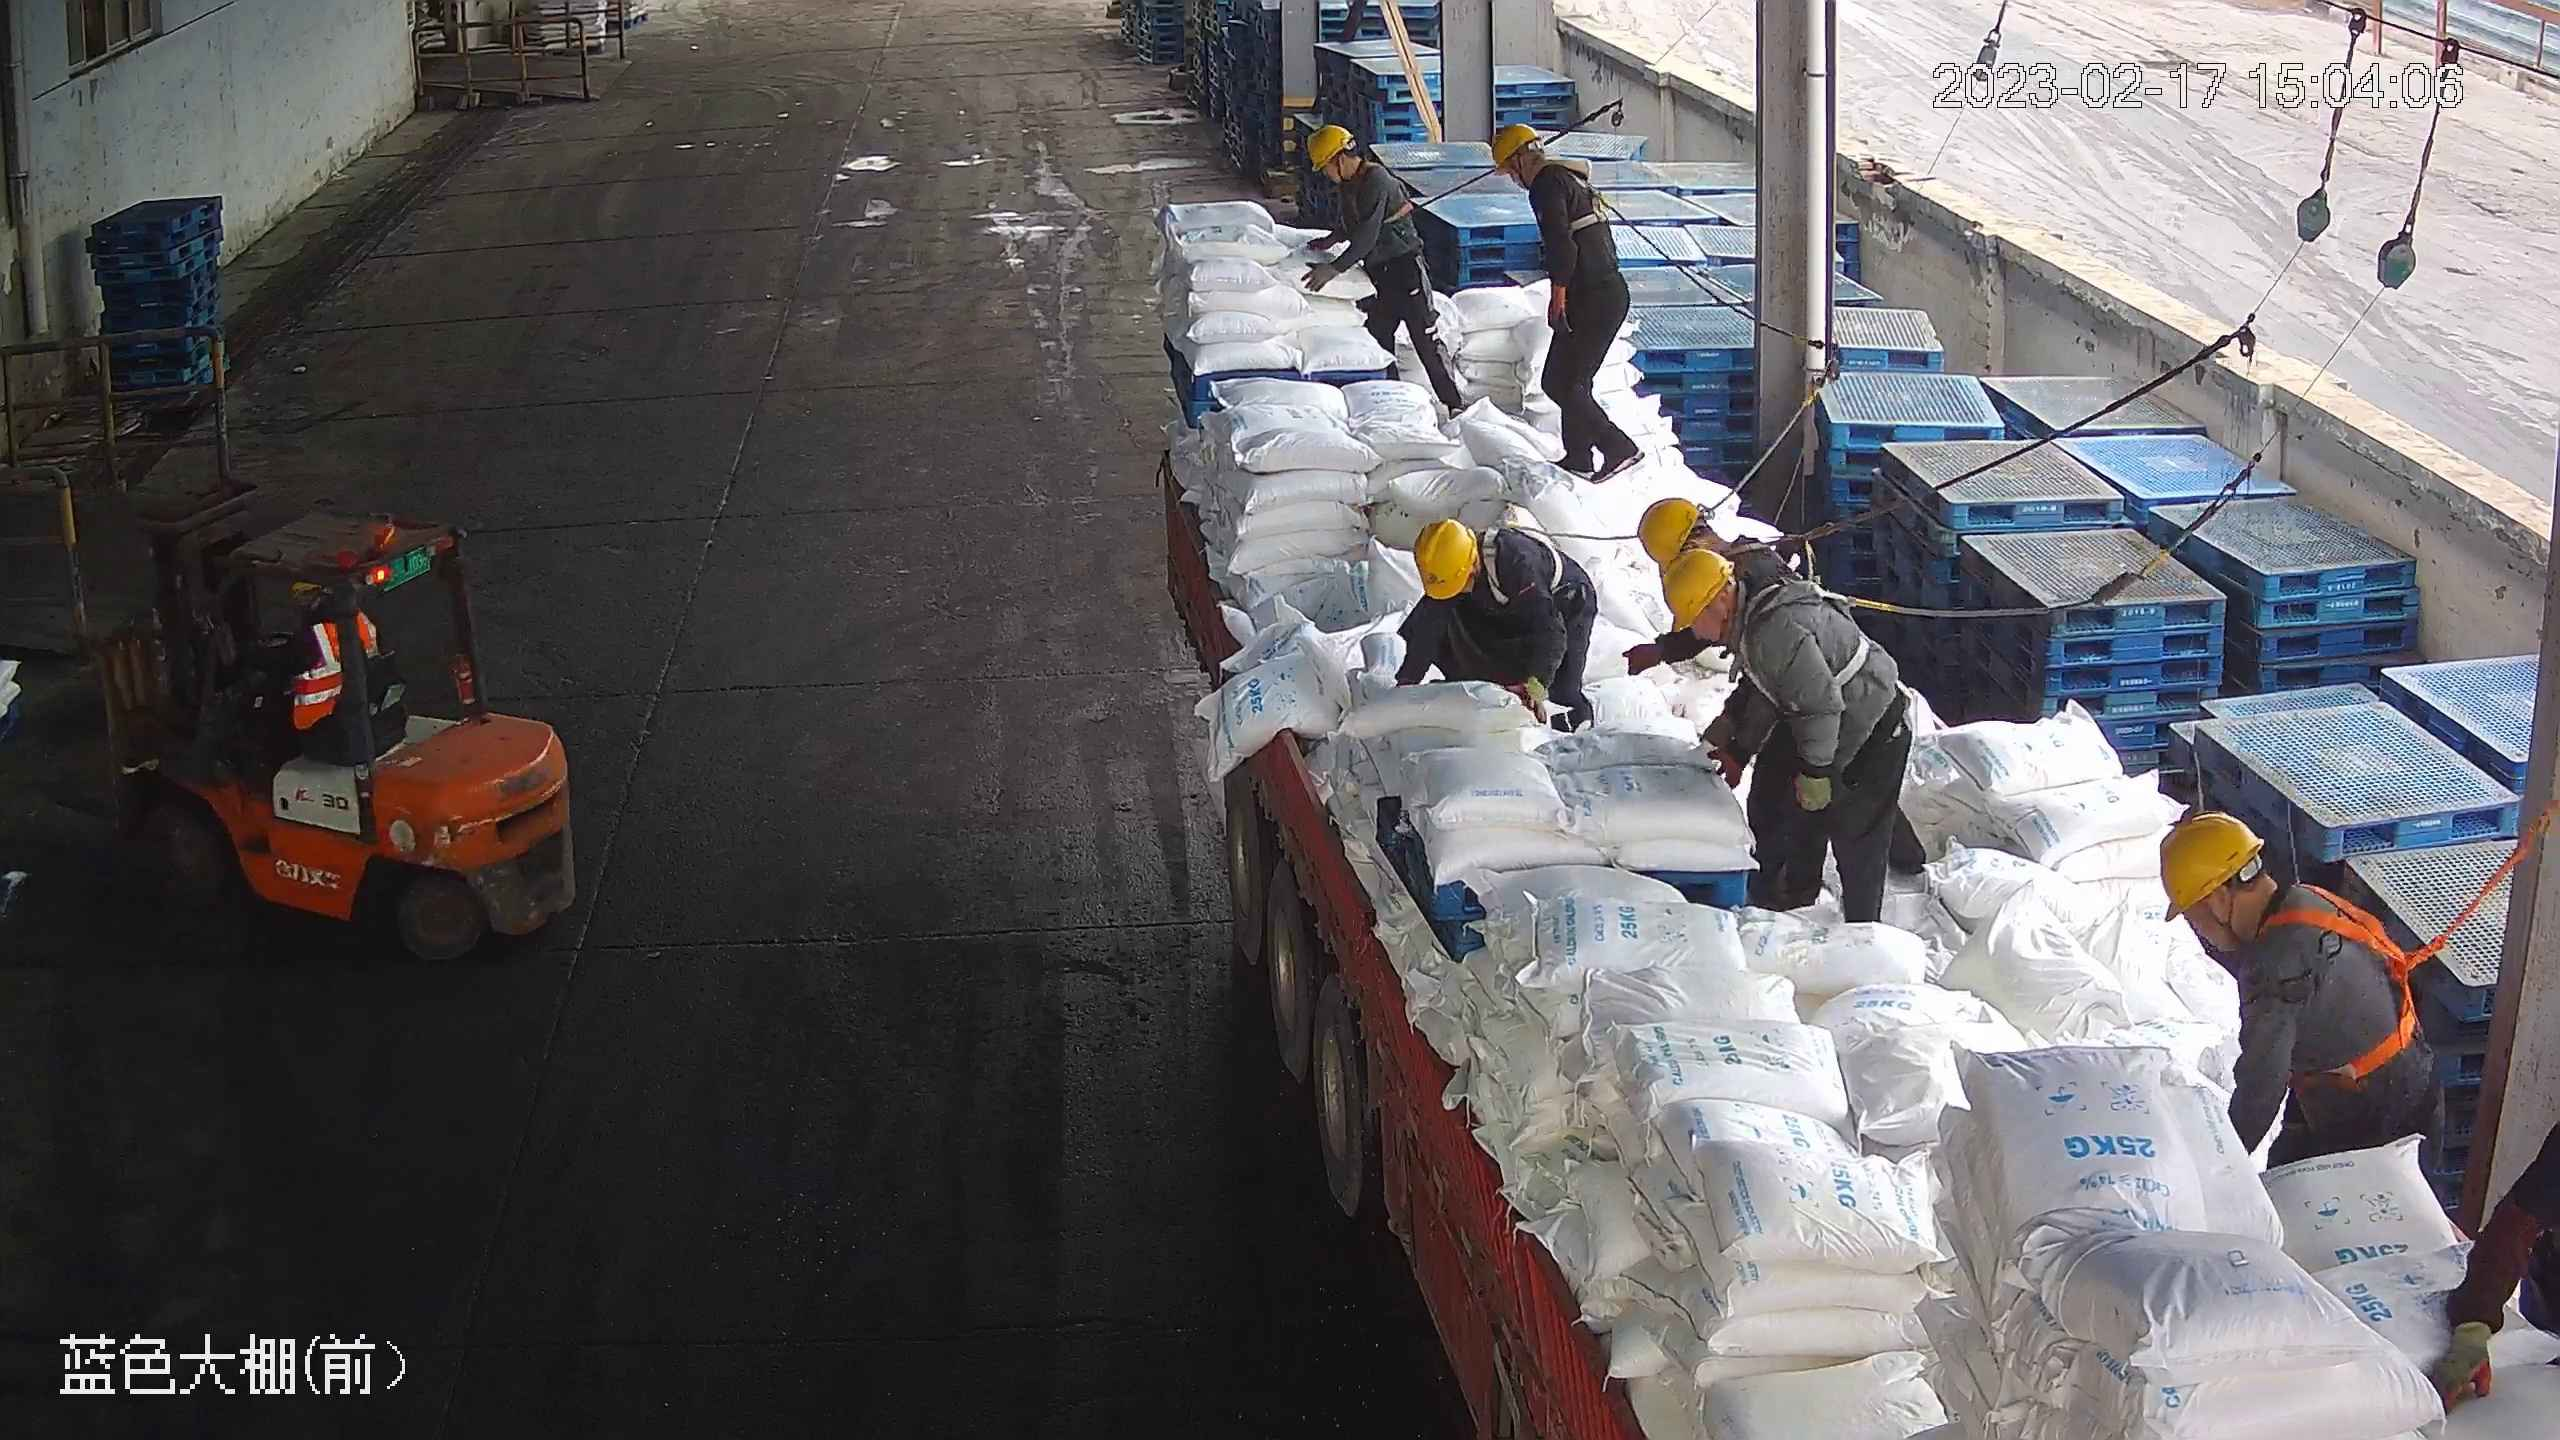belt: (2266, 881, 2437, 1086), (1733, 563, 1884, 710), (1471, 505, 1564, 607), (1738, 517, 1835, 596), (1336, 154, 1425, 234), (1540, 157, 1620, 237)
head: (2157, 803, 2397, 1029), (1653, 532, 1836, 670), (1411, 509, 1546, 612), (1488, 121, 1603, 222), (1306, 119, 1405, 204)
helmet: (2159, 809, 2265, 918), (1649, 538, 1732, 629), (1639, 498, 1716, 593), (1411, 514, 1479, 596), (1489, 122, 1543, 174), (1305, 122, 1353, 170)
people: (2153, 807, 2448, 1201), (1652, 523, 1920, 926), (2430, 939, 2560, 1418), (1486, 122, 1647, 485), (1294, 115, 1466, 421), (1395, 511, 1602, 736), (226, 577, 358, 771)
truck: (1112, 115, 2543, 1440)
